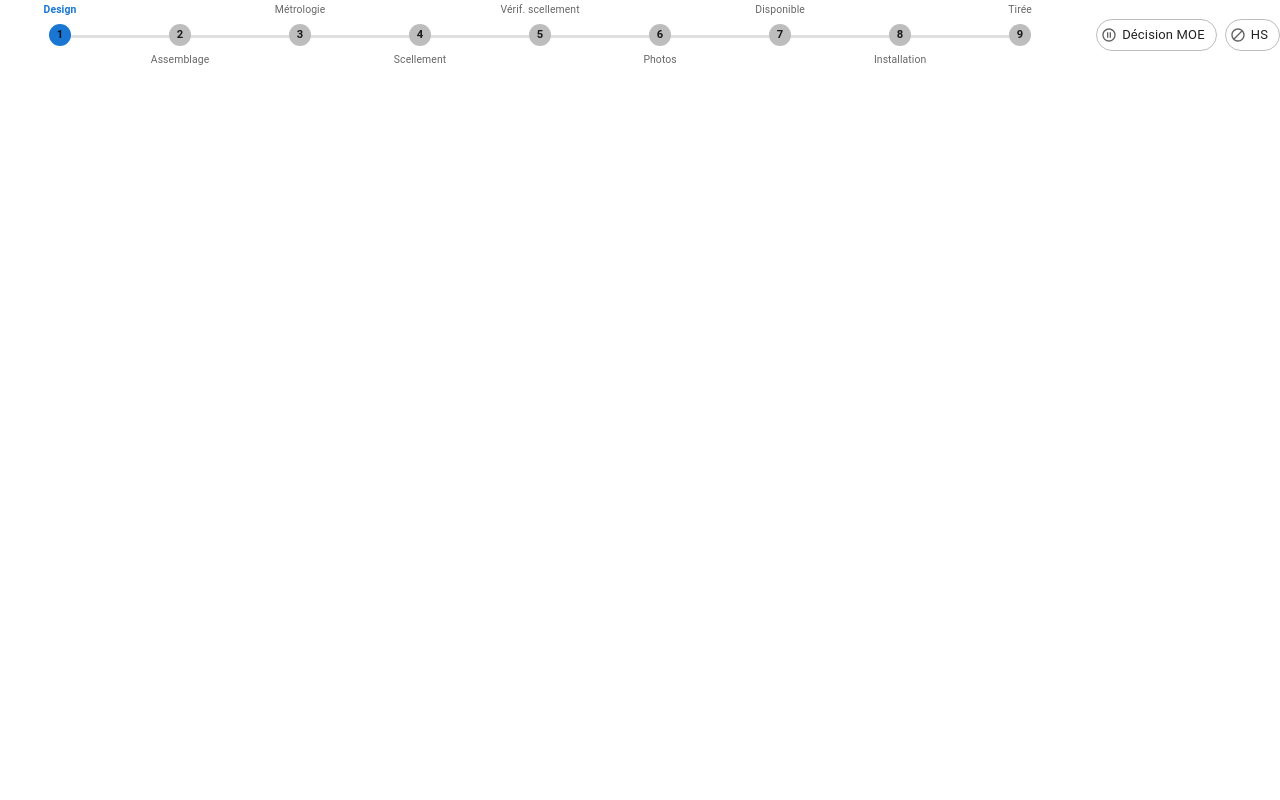
Test: FsecWorkflowStepper › HS Chip Functionality › should open confirmation dialog when clicking HS chip
This screenshot has width=1280, height=800.
What coordinates should you click on to do the following:
click the button "HS"
I would click on:
 (1252, 35)
Its box is top-left (1225, 19), bottom-right (1279, 51).
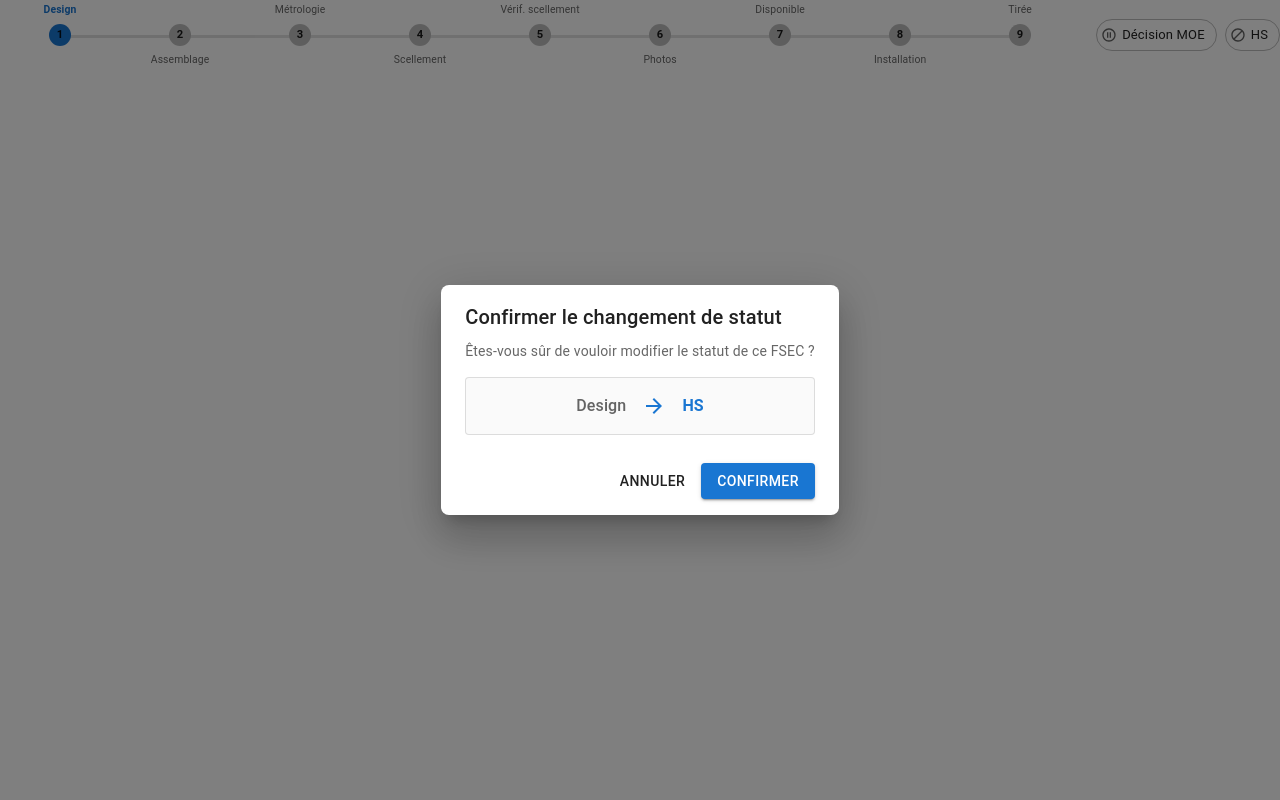
Result: the heading "Confirmer le changement de statut" is shown at top-left (465, 305), bottom-right (782, 329)
